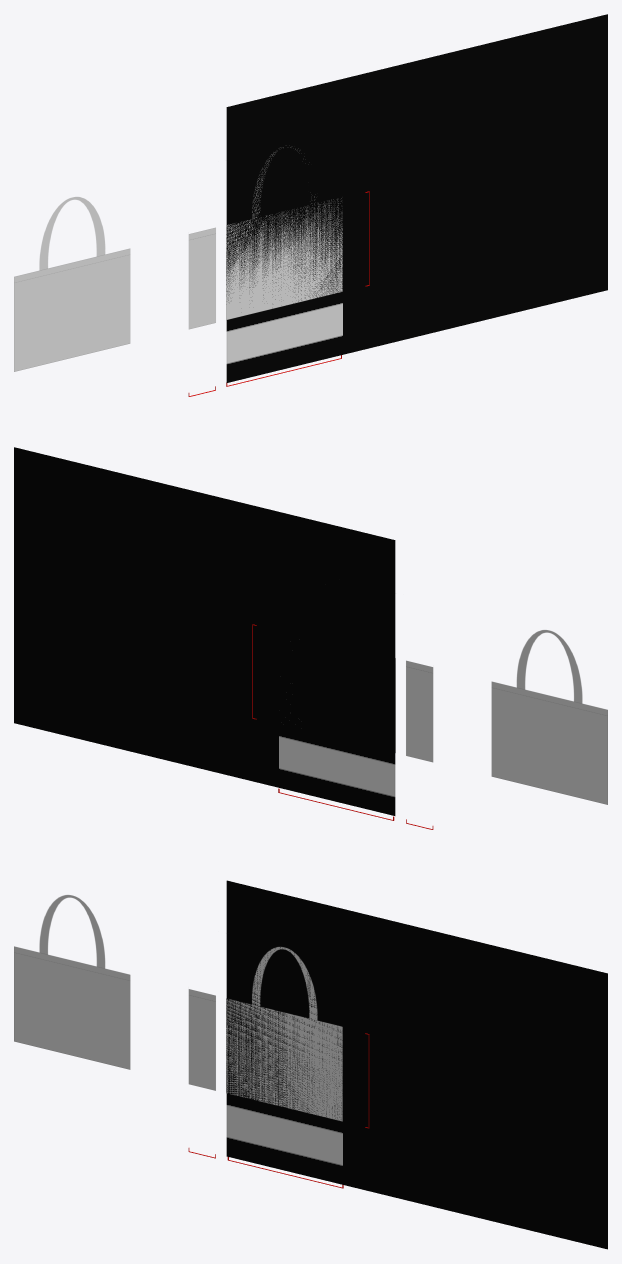
Rendered from 帆布袋-有底有侧.glb.
The picture shows the model from 3 angles, top to bottom: view 1: azimuth 30°, elevation 25°; view 2: azimuth 150°, elevation 25°; view 3: azimuth 330°, elevation 25°; orthographic projection.
Visible parts, largest first — view 1: bag3, bag, bag2; view 2: bag3, bag, bag2; view 3: bag3, bag, bag2.
Boxes of the visible parts, left/top/right/bottom form: bag3: left=226, top=14, right=607, bottom=382; bag: left=14, top=147, right=342, bottom=371; bag2: left=188, top=227, right=215, bottom=329; bag3: left=14, top=447, right=395, bottom=815; bag: left=395, top=630, right=607, bottom=804; bag2: left=406, top=660, right=433, bottom=762; bag3: left=226, top=880, right=607, bottom=1249; bag: left=14, top=895, right=342, bottom=1121; bag2: left=188, top=989, right=215, bottom=1090.
Bounding box in the file's own units: 1.53 × 0.6921 × 0.00545.
Materials: 5 (3 with a texture image).
